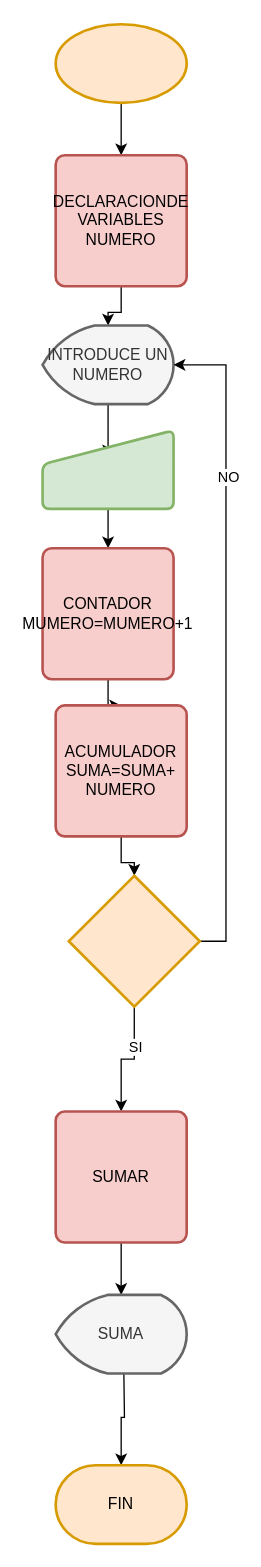
This 261x1567 diagram has some shape labels left out. The shapes that lost their labels are listed below. From the top down, each one's centre as x and y in pixels, then its label:
At (120,62): "INICIO".
At (107,469): "LEER EL NUMERO".
At (133,940): "SI NUMERO = 10".
